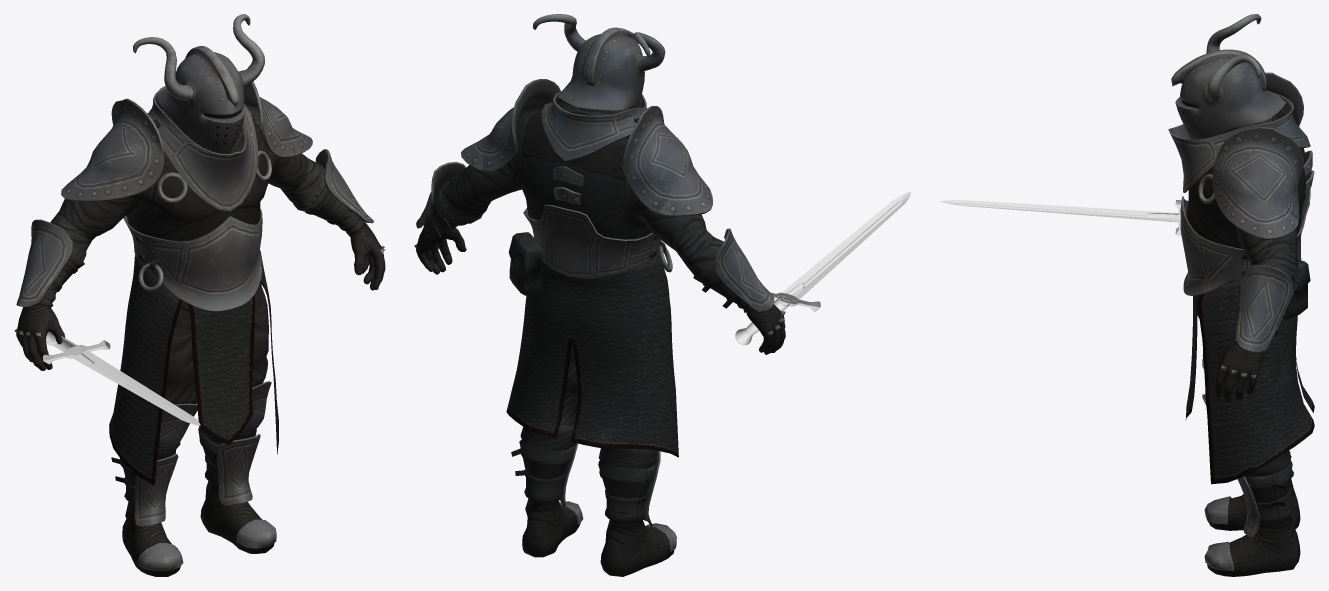
Rendered from guard.gltf.
3 renders of one model, left to right at view 1: azimuth 30°, elevation 25°; view 2: azimuth 150°, elevation 25°; view 3: azimuth 270°, elevation 25°, orthographic. The views are drawn at different scales.
Parts seen in each view (by area): view 1: mesh; view 2: mesh; view 3: mesh.
Boxes of the visible parts, left/top/right/bottom form: mesh: left=14, top=14, right=385, bottom=576; mesh: left=414, top=14, right=910, bottom=576; mesh: left=940, top=14, right=1314, bottom=576.
Size of the model in its own units: 1.18 by 1.61 by 1.07.
Materials: 3 (2 with a texture image).
